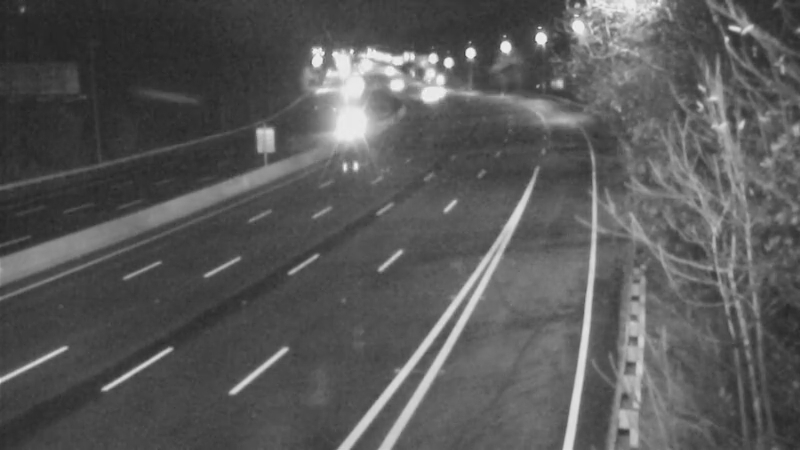vehicle: (372, 63, 422, 113), (407, 69, 457, 119), (321, 103, 371, 153)
